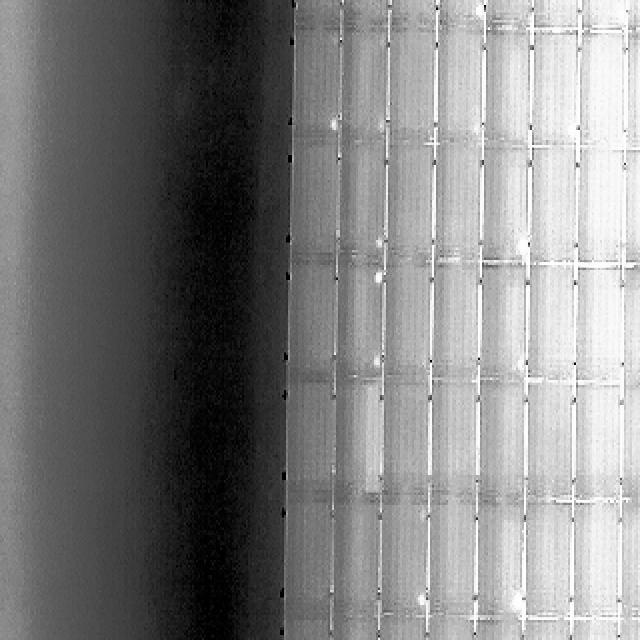Hotspots: (512, 232, 528, 264), (414, 589, 429, 616), (508, 588, 523, 614), (367, 349, 382, 374), (327, 110, 341, 135), (564, 118, 578, 142), (613, 1, 627, 24), (468, 0, 484, 20), (371, 232, 386, 253), (370, 266, 383, 286)
PV-modules: (526, 379, 578, 501), (435, 24, 487, 146), (527, 147, 580, 266), (426, 498, 478, 618), (477, 380, 529, 500), (475, 498, 526, 620), (524, 501, 576, 620), (384, 144, 436, 263), (335, 143, 387, 262), (376, 498, 427, 619), (480, 26, 531, 147), (386, 26, 438, 144), (332, 499, 382, 620), (528, 31, 580, 147), (337, 28, 389, 144), (336, 255, 385, 378), (569, 502, 620, 620), (571, 382, 621, 502), (283, 500, 333, 620), (428, 381, 479, 498), (429, 261, 480, 378), (380, 259, 430, 378), (432, 144, 482, 263), (288, 257, 337, 378), (379, 380, 429, 498), (481, 146, 531, 264), (292, 143, 342, 261), (336, 380, 386, 497), (285, 383, 336, 497), (572, 264, 622, 380), (575, 148, 624, 266), (528, 263, 578, 378), (479, 262, 528, 378), (577, 32, 626, 148), (292, 28, 341, 142), (618, 500, 640, 620), (620, 385, 640, 503), (620, 267, 640, 385), (622, 150, 640, 265), (624, 28, 640, 150), (576, 0, 624, 35), (342, 0, 392, 32), (292, 0, 342, 32), (532, 0, 582, 32), (434, 0, 484, 30), (484, 0, 534, 30), (390, 0, 440, 30), (378, 614, 432, 640), (472, 618, 530, 640), (280, 618, 332, 640), (521, 621, 573, 640), (624, 0, 640, 32), (616, 620, 640, 640)
